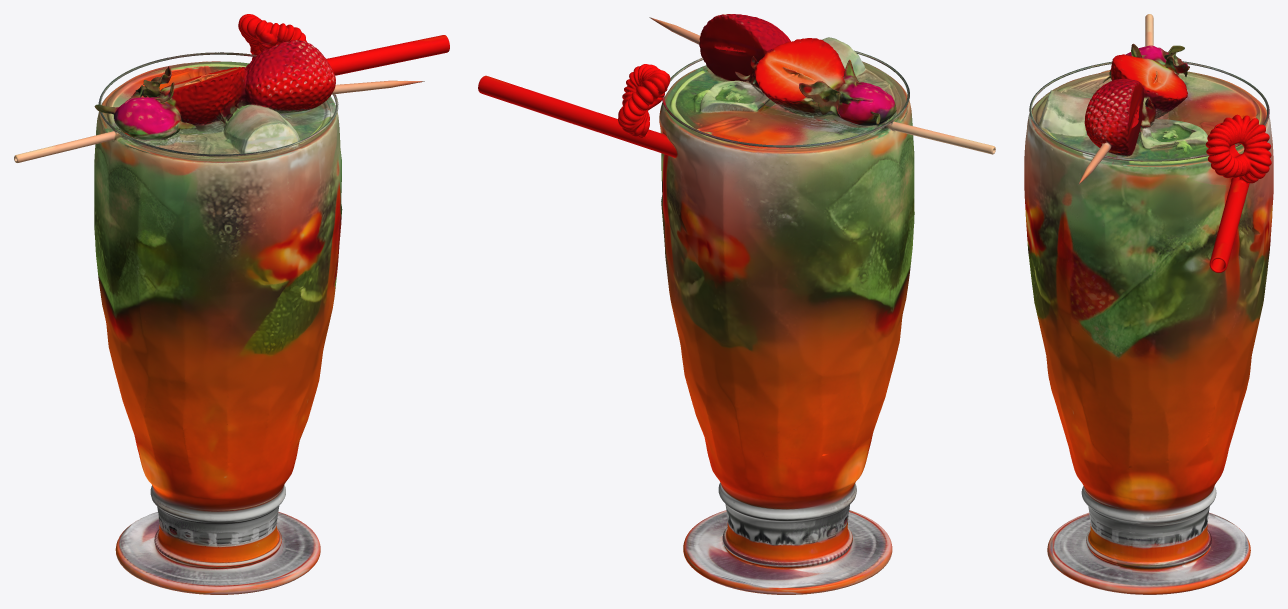
The model's file is Strawberry_Mojito.glb.
3 renders of one model, left to right at view 1: azimuth 30°, elevation 25°; view 2: azimuth 150°, elevation 25°; view 3: azimuth 270°, elevation 25°, orthographic. The views are drawn at different scales.
Size of the model in its own units: 1.84 by 1.9 by 0.8613.
Materials: 1 (1 with a texture image).
